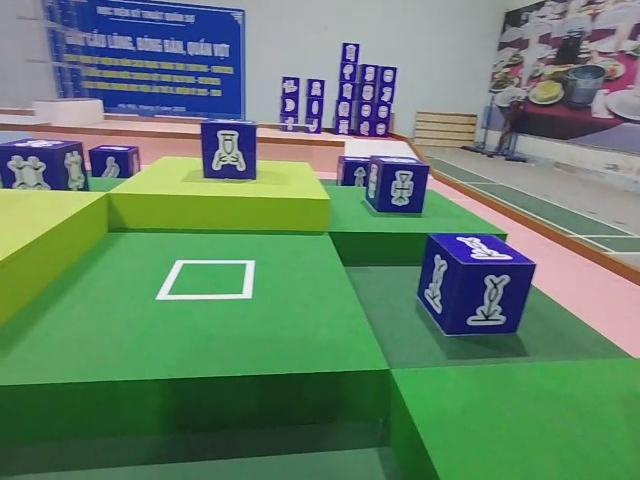R2 Real Blue: (420, 233, 537, 338), (0, 138, 86, 193), (363, 154, 427, 214), (199, 120, 257, 183), (88, 145, 143, 180), (336, 155, 375, 188)
